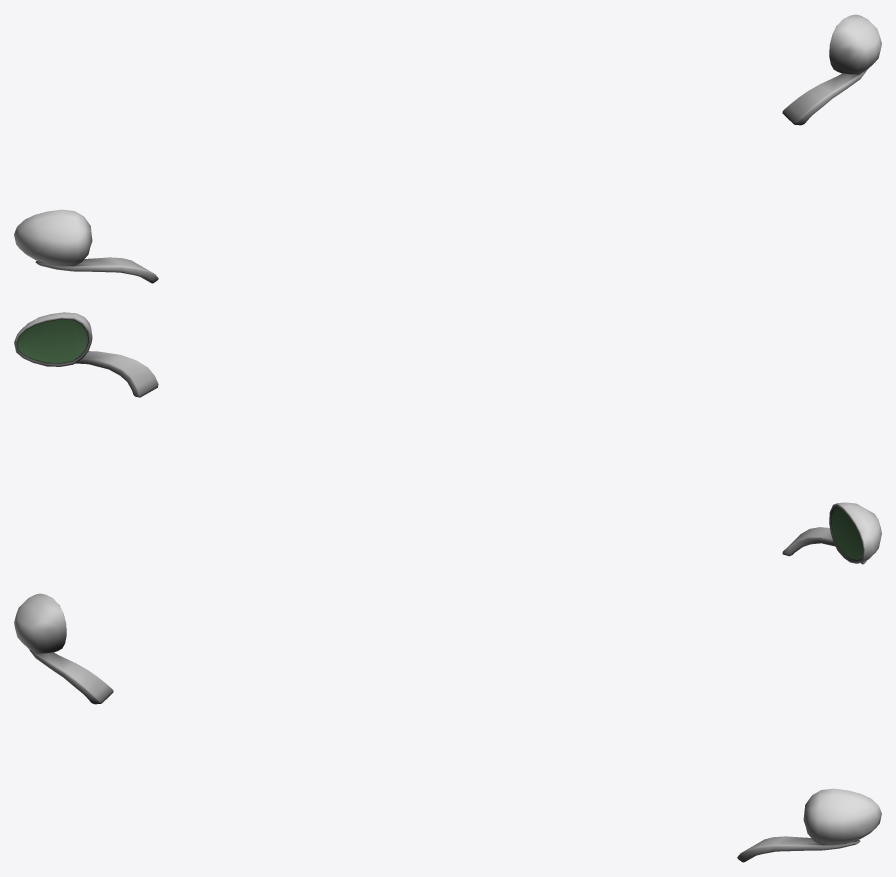
Rendered from Agera_Mirror_02_Carbon.fbx.
The picture shows the model from 3 angles, top to bottom: view 1: azimuth 30°, elevation 25°; view 2: azimuth 150°, elevation 25°; view 3: azimuth 330°, elevation 25°; orthographic projection.
Visible parts, largest first — view 1: Agera_Mirror_02_Carbon; view 2: Agera_Mirror_02_Carbon; view 3: Agera_Mirror_02_Carbon.
Boxes of the visible parts, box(x1,y1,x2,y2) form: Agera_Mirror_02_Carbon: box(14, 14, 881, 283); Agera_Mirror_02_Carbon: box(14, 312, 881, 564); Agera_Mirror_02_Carbon: box(14, 593, 881, 862).
Bounding box in the file's own units: 220 × 17.79 × 17.86.
